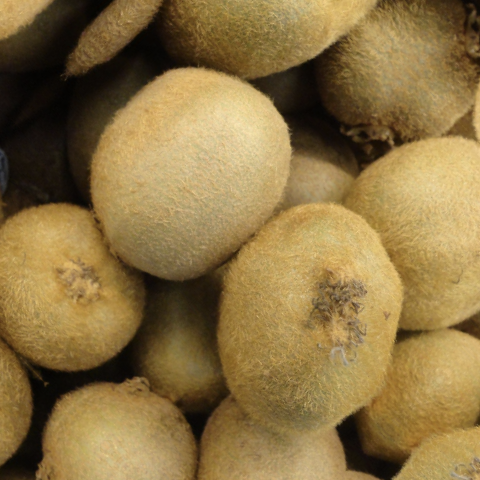kiwi: (17, 14, 347, 343), (143, 154, 470, 480), (299, 94, 480, 364), (0, 157, 190, 407)
